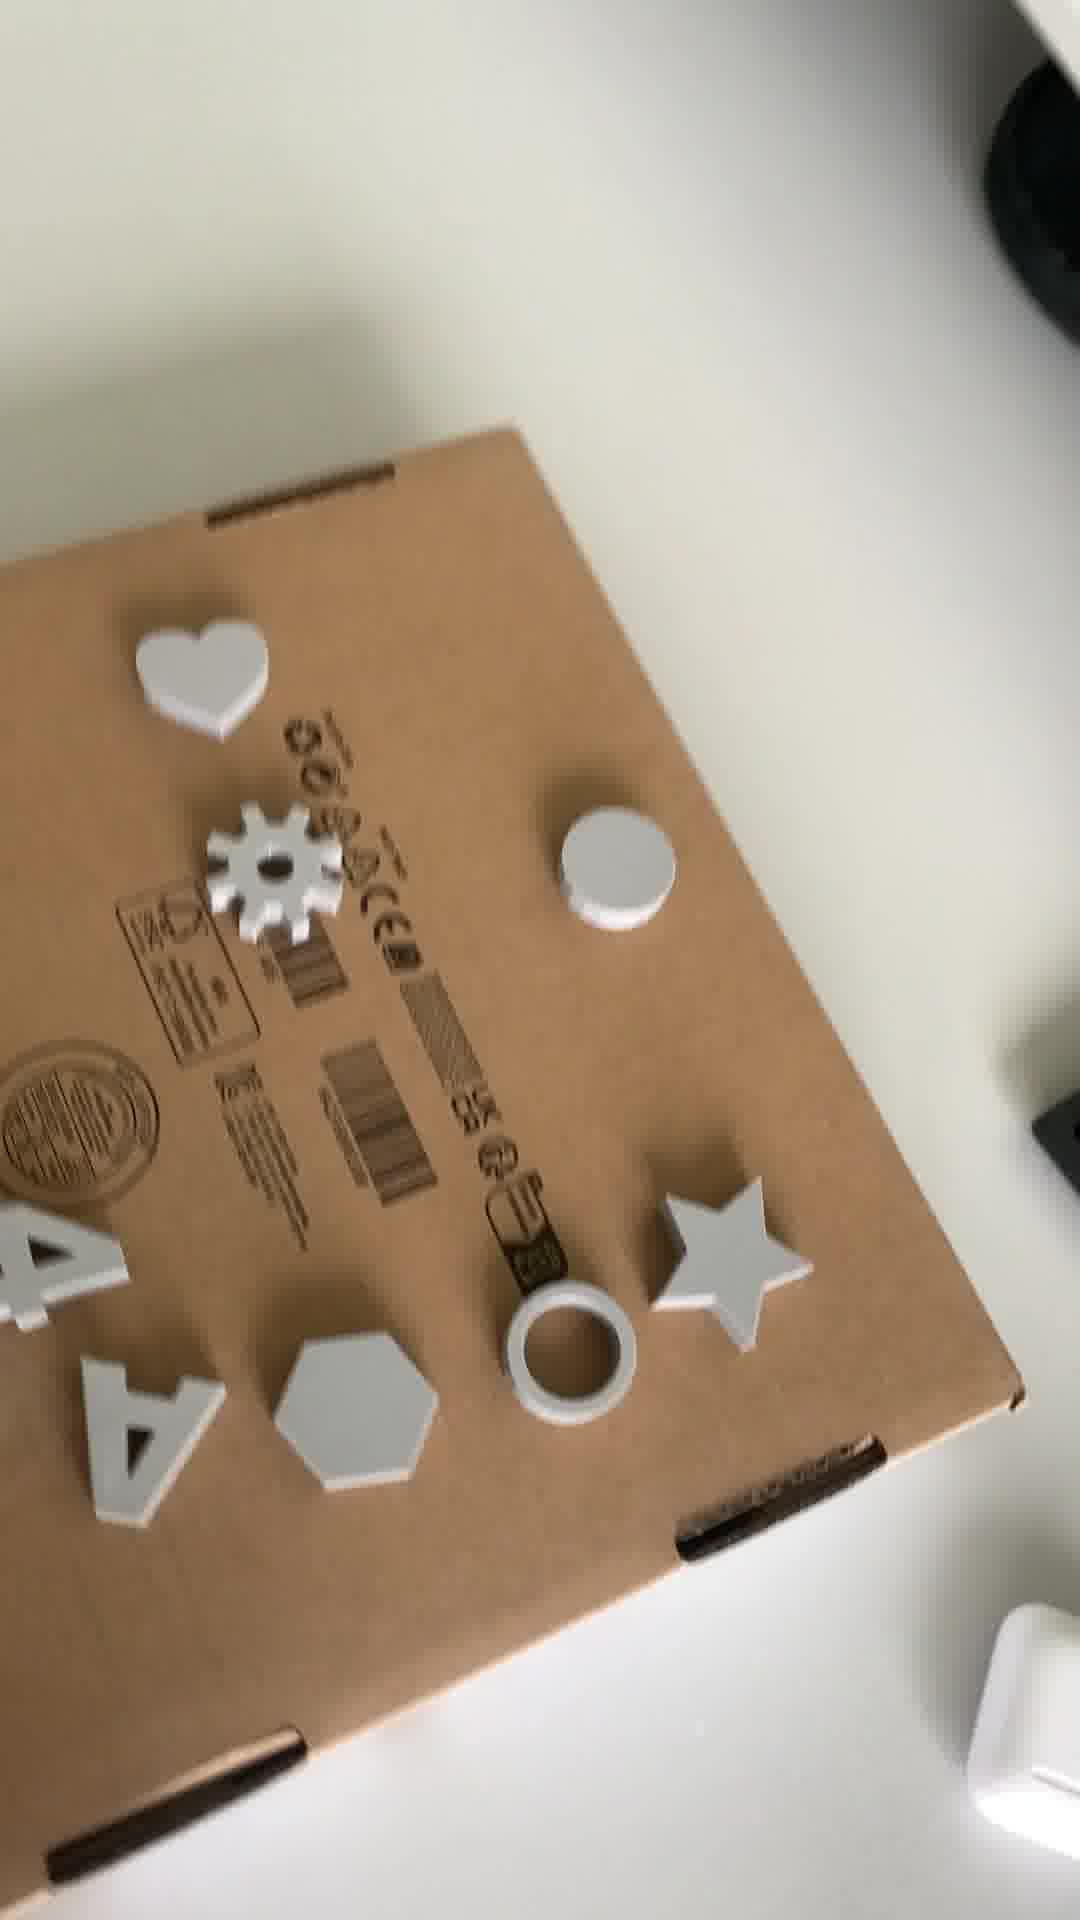Gray A-letter: (69, 1352, 235, 1544)
Gray circle: (556, 803, 678, 936)
Gray four: (1, 1189, 142, 1336)
Gray gear: (204, 803, 353, 942)
Gray heart: (138, 611, 280, 738)
Gray hexagon: (272, 1323, 447, 1509)
Gray ring: (504, 1279, 637, 1422)
Gray star: (645, 1175, 811, 1356)
